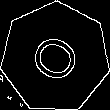O_SE: (23, 27, 87, 88)
